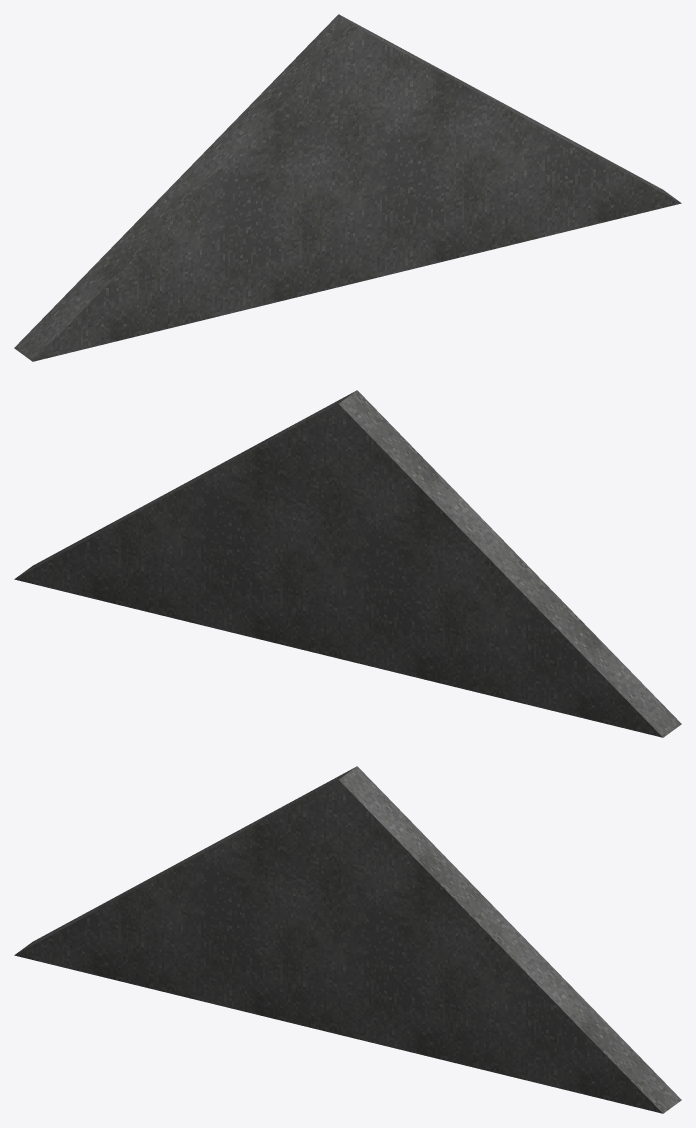
File: wall_gable_brick.glb
3 views of the same model, one above another, from view 1: azimuth 30°, elevation 25°; view 2: azimuth 150°, elevation 25°; view 3: azimuth 330°, elevation 25° (orthographic).
Visible parts, largest first — view 1: wall_gable_brick; view 2: wall_gable_brick; view 3: wall_gable_brick.
Part boxes in pixels (bbox=[...]): wall_gable_brick: bbox=[14, 14, 681, 361]; wall_gable_brick: bbox=[14, 390, 681, 737]; wall_gable_brick: bbox=[14, 766, 681, 1113].
Bounding box in the file's own units: 4 × 1.5 × 0.2.
